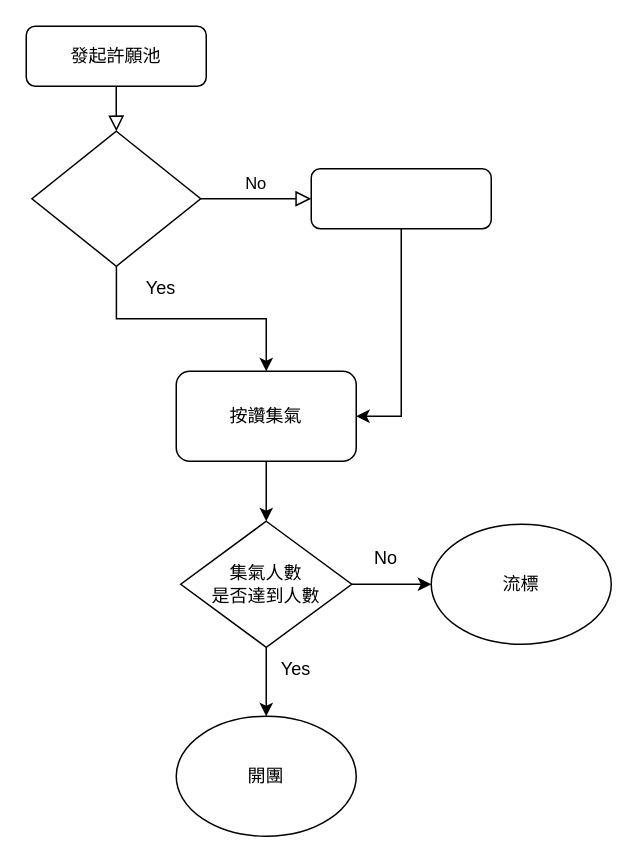
This 638x863 diagram has some shape labels left out. The shapes that lost their labels are listed below. From the top down, each one's centre as x and y in pixels, then its label:
(x=115, y=198): 查詢許願池 是否有該願望
(x=400, y=198): 發起願望
